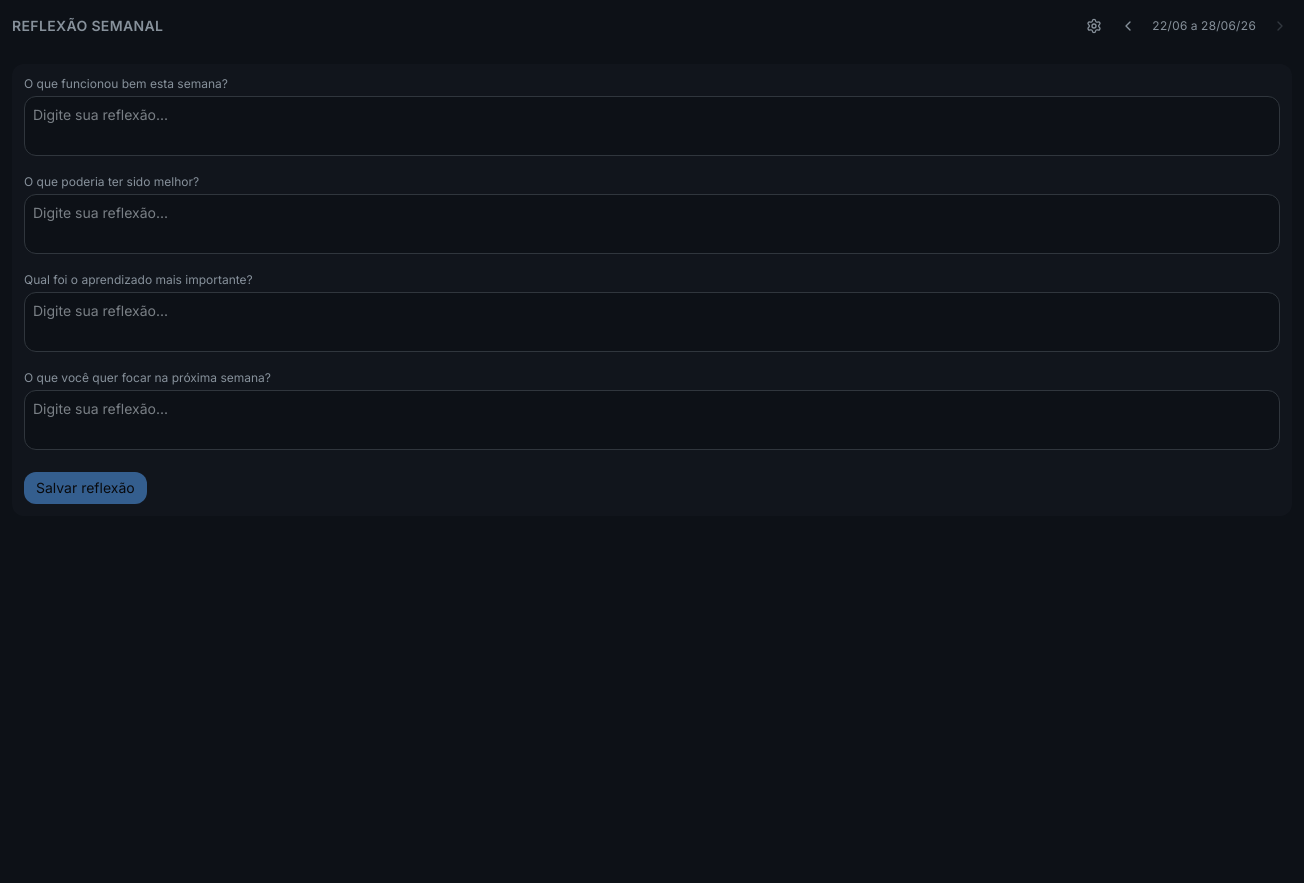
Test case: ReflexaoTab › adiciona nova pergunta via painel de gerenciamento
Check: the text "O que funcionou bem esta semana?" is shown, box 24,76 -> 228,91
Click the button titled "Gerenciar perguntas": x=1094, y=26 1080,12 -> 1108,40
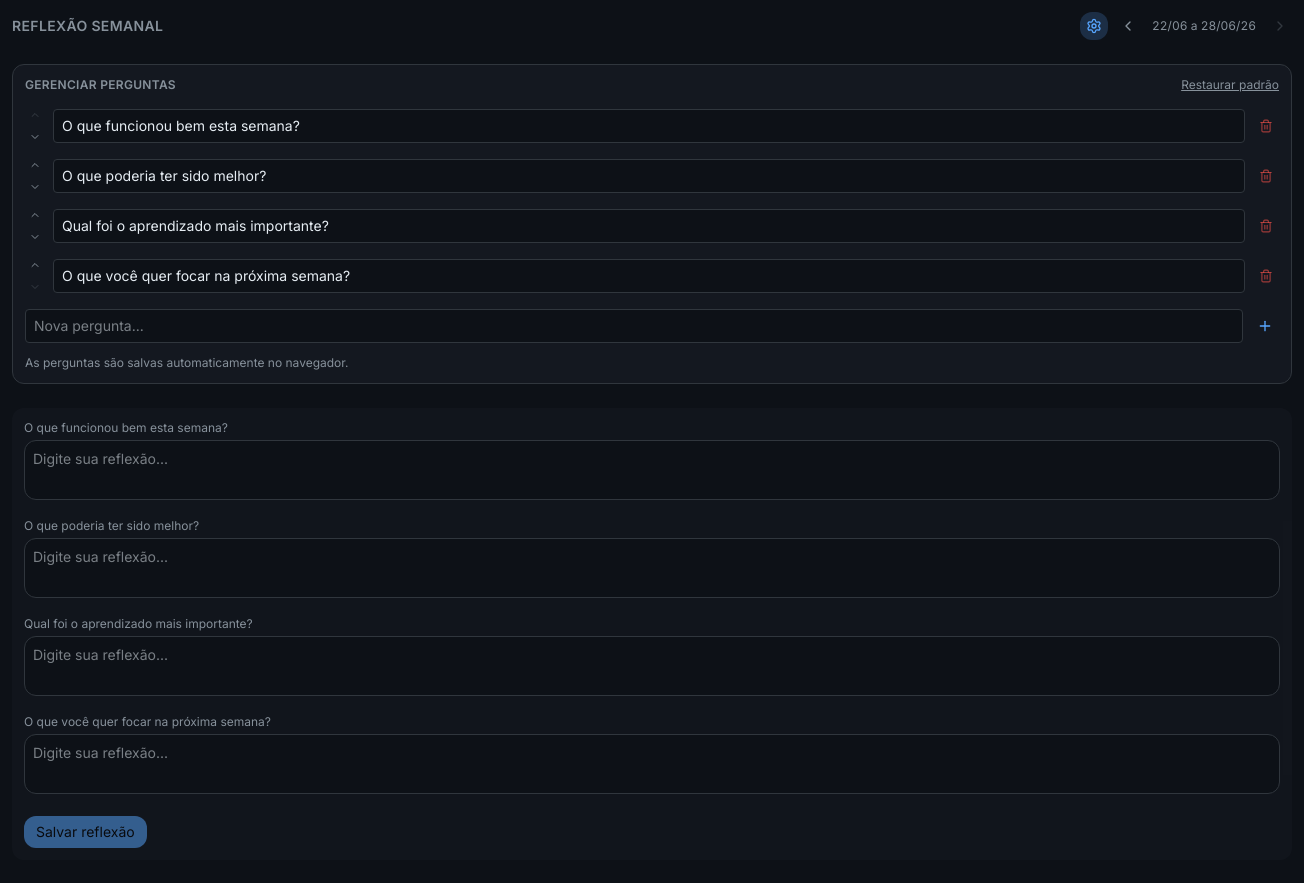
In the field with placeholder "Nova pergunta...": x=634, y=326 25,309 -> 1243,343, type "Teste?"
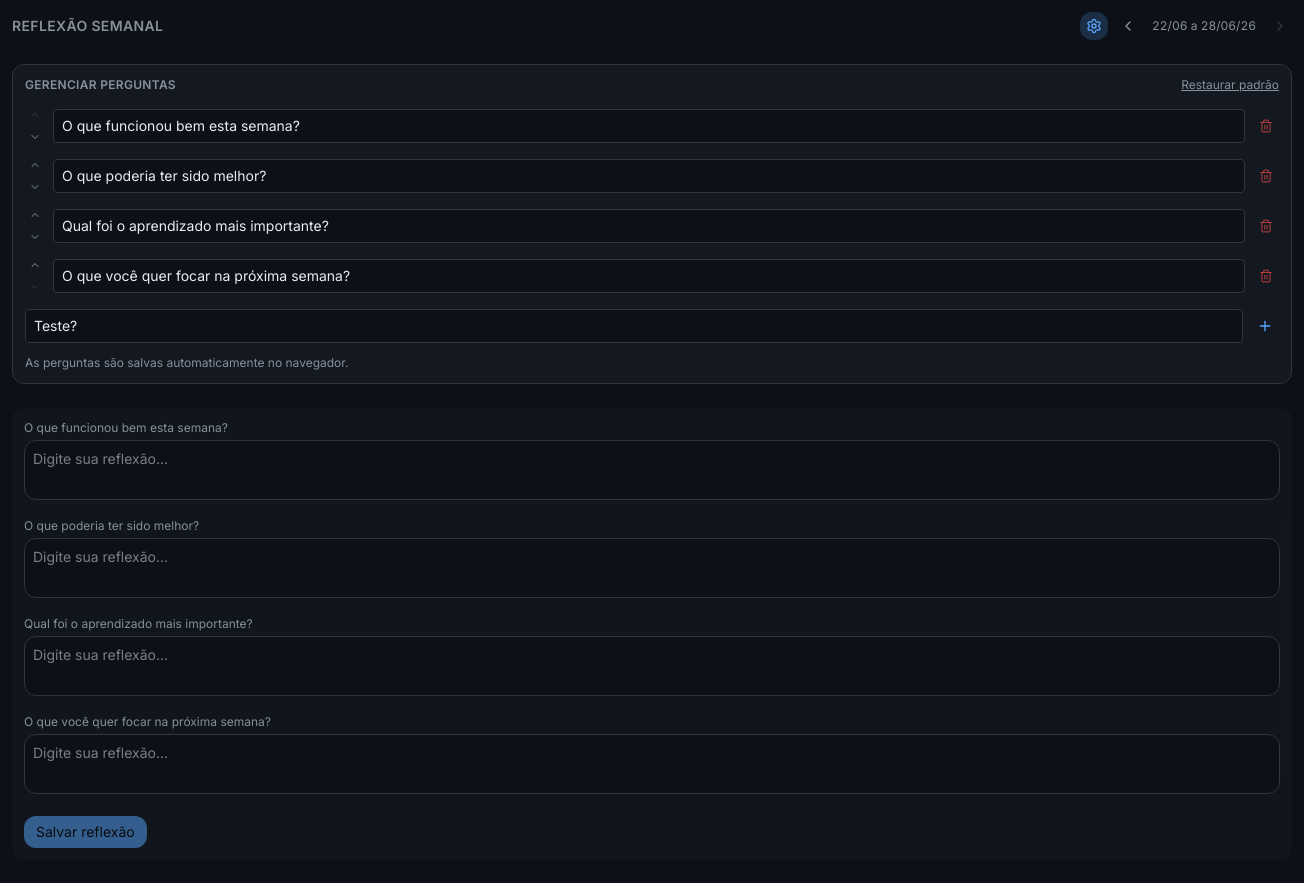
Press Enter in the 5th field with placeholder "Nova pergunta...", box 25,309 -> 1243,343
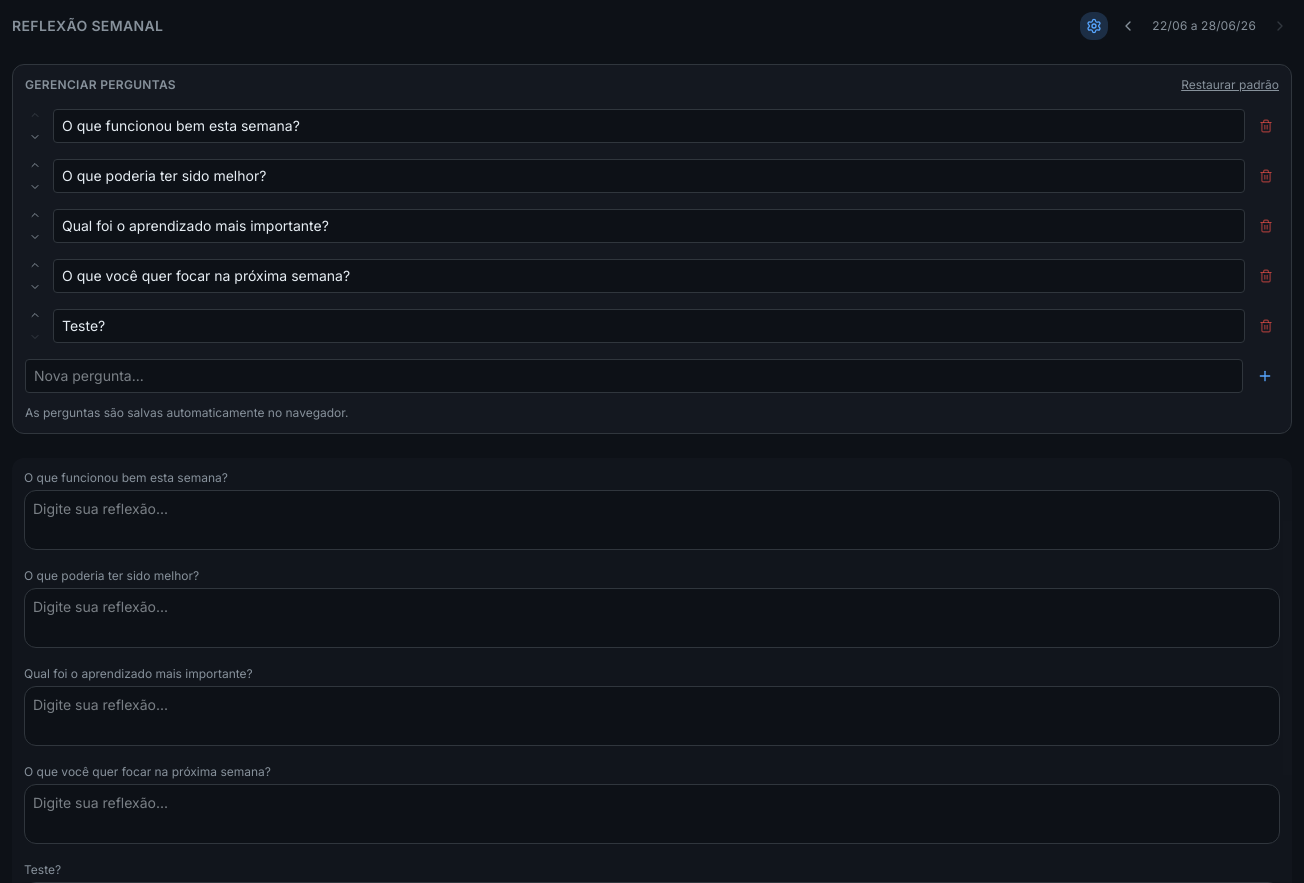
Check: the text "Teste?" is shown, box 24,862 -> 61,877
